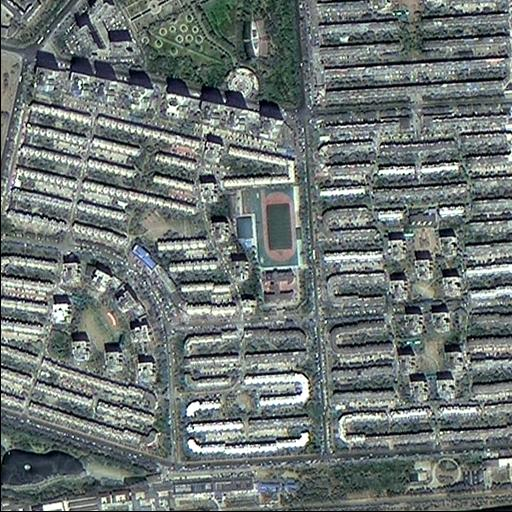school: (235, 182, 302, 313)
